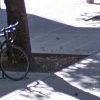Bicycle: (1, 19, 30, 86)
